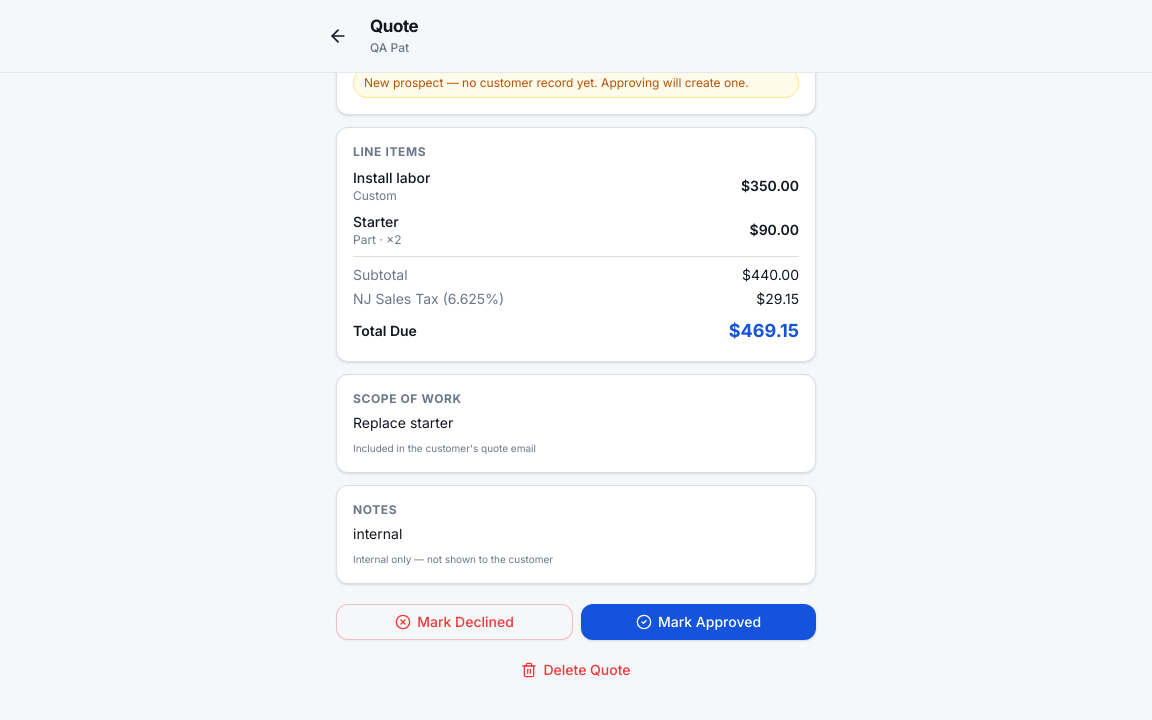
Test: B3 Delete a quote (app confirm; never the job) › Cancel deletes nothing
This screenshot has width=1152, height=720.
(page scrolled)
Click the button with test id "quote-delete" at coordinates (576, 670), box [336,652,816,688]
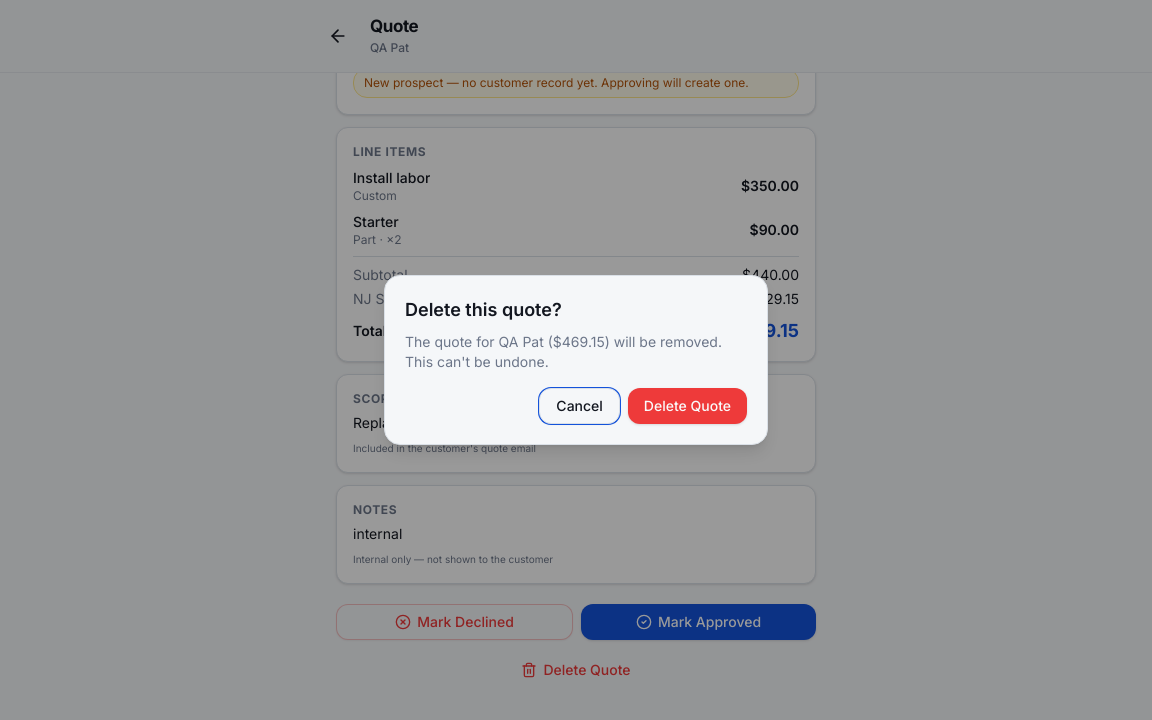
expect the dialog with test id "quote-delete-confirm" is shown: met, box [384,275,768,445]
Click the button "Cancel" at coordinates (580, 406), box [539,388,620,424]
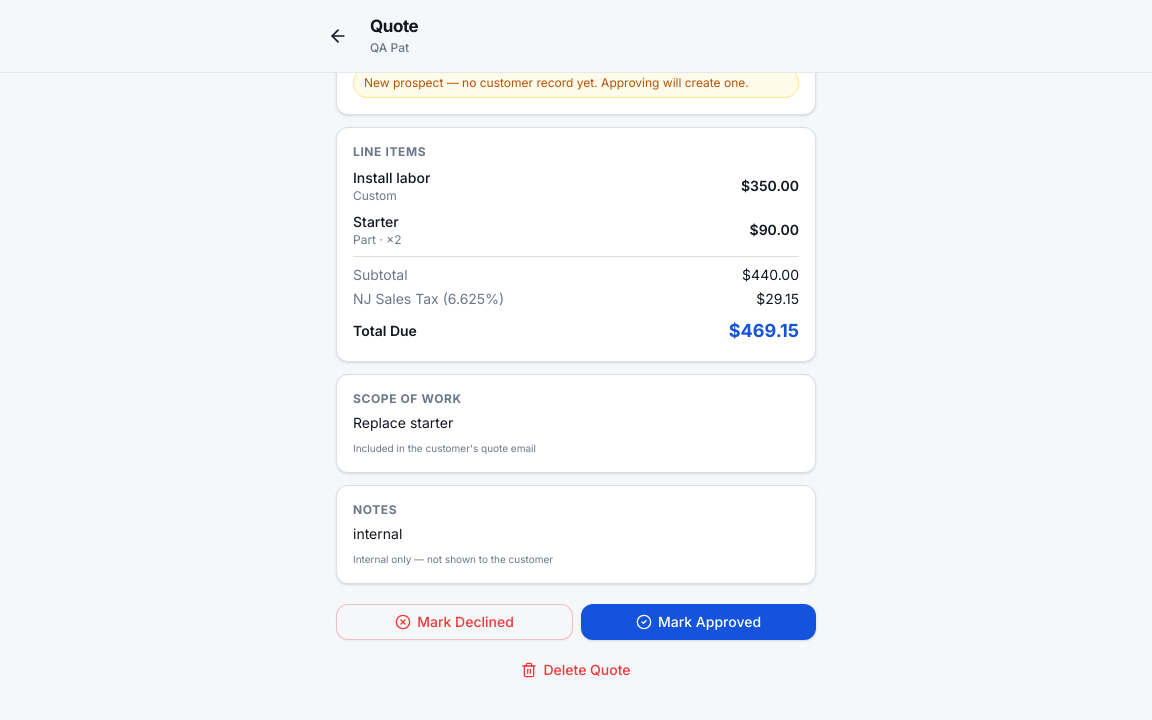
expect the dialog with test id "quote-delete-confirm" is gone: met
